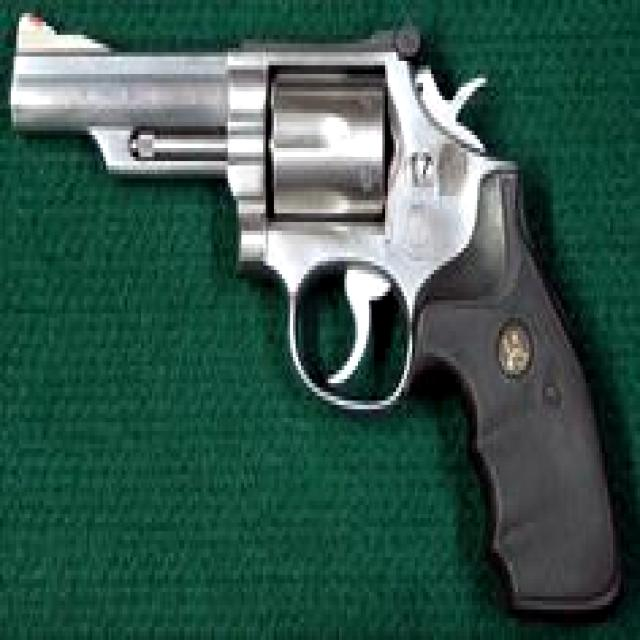revolver: (2, 2, 636, 632)
